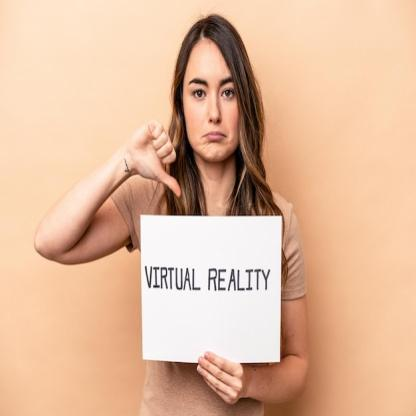thumb_down: (128, 115, 183, 198)
